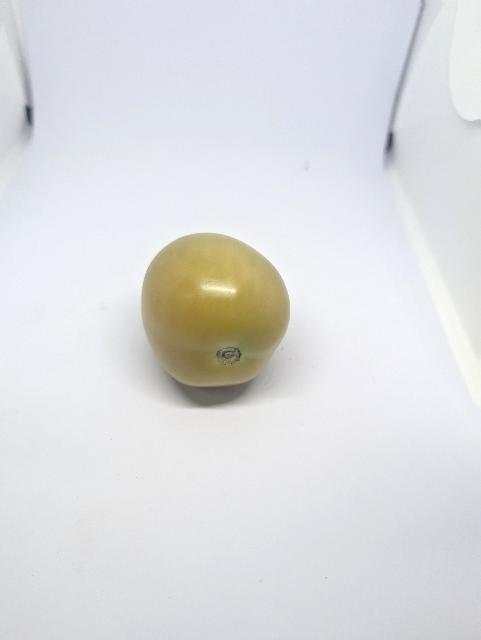breaker: (137, 231, 292, 390)
